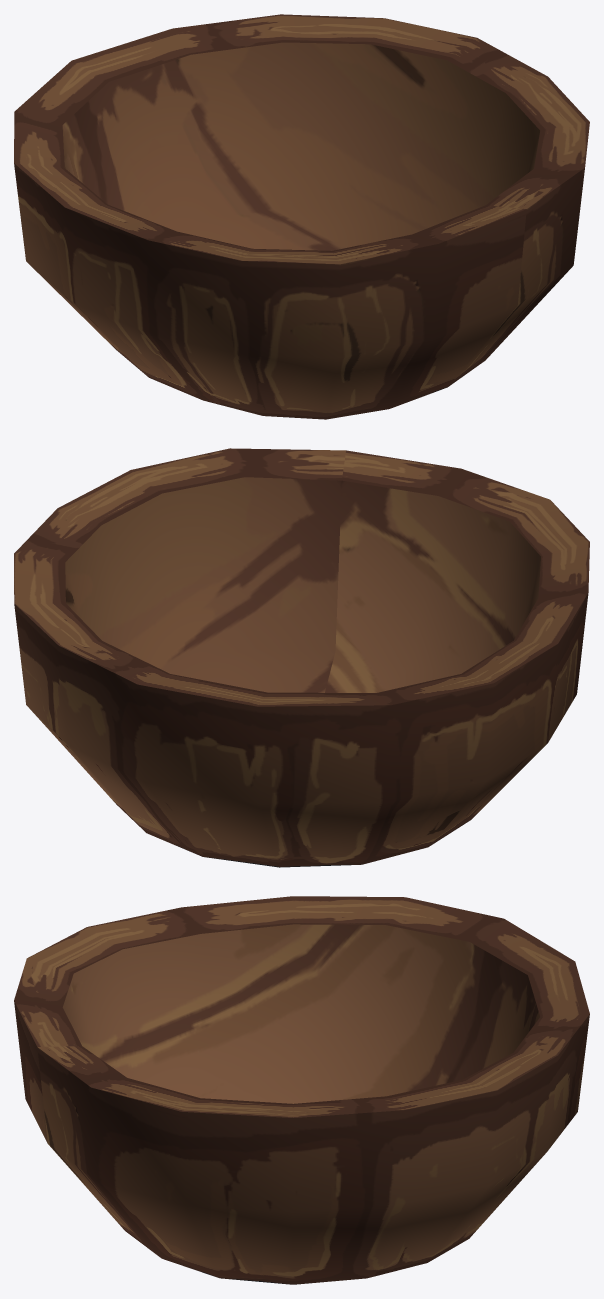
The model's file is SM_PROP_bowl_interior_01.fbx.
3 views of the same model, one above another, from view 1: azimuth 30°, elevation 25°; view 2: azimuth 150°, elevation 25°; view 3: azimuth 270°, elevation 25° (orthographic). The views are drawn at different scales.
Visible parts, largest first — view 1: SM_PROP_bowl_interior_01; view 2: SM_PROP_bowl_interior_01; view 3: SM_PROP_bowl_interior_01.
Boxes of the visible parts, x1,y1,x2,y2 form: SM_PROP_bowl_interior_01: (14,14,589,419); SM_PROP_bowl_interior_01: (14,448,589,867); SM_PROP_bowl_interior_01: (14,896,589,1284).
Size of the model in its own units: 25.96 by 10.73 by 26.93.
